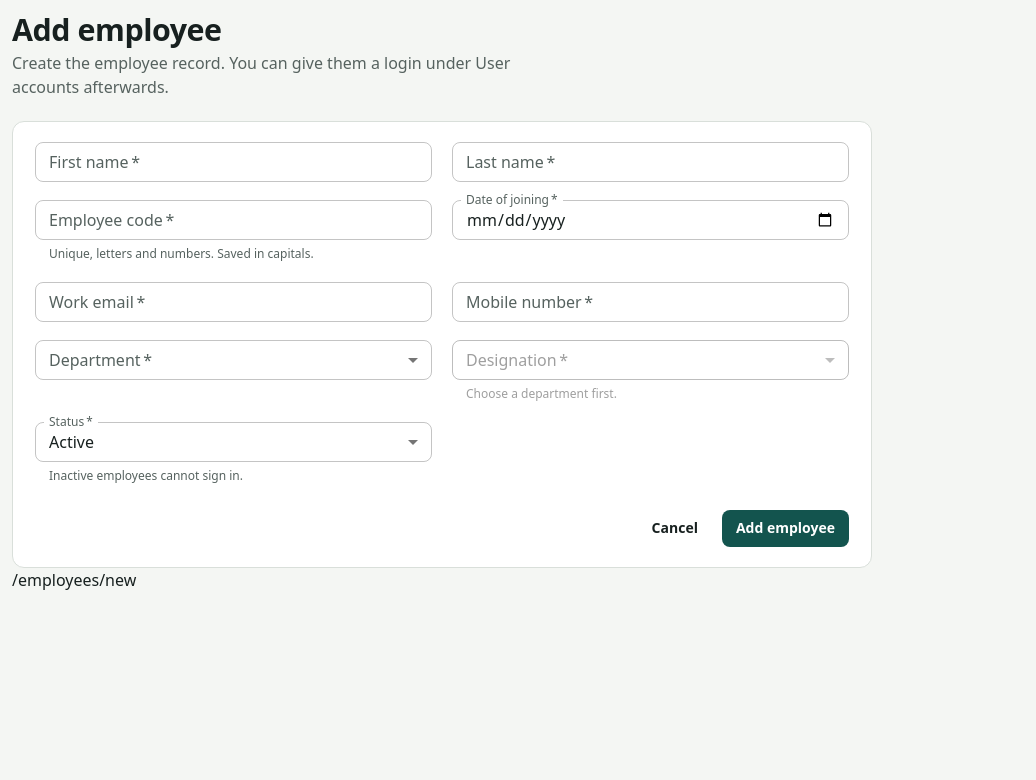
Scenario: EmployeeFormPage › validates in the browser before saving
The image size is (1036, 780).
Expected: the 1st dropdown named "department" is shown, [35,340,432,380]
Type "R4vi" into the field labelled "First name *" at x=234, y=162, box [35,142,432,182]
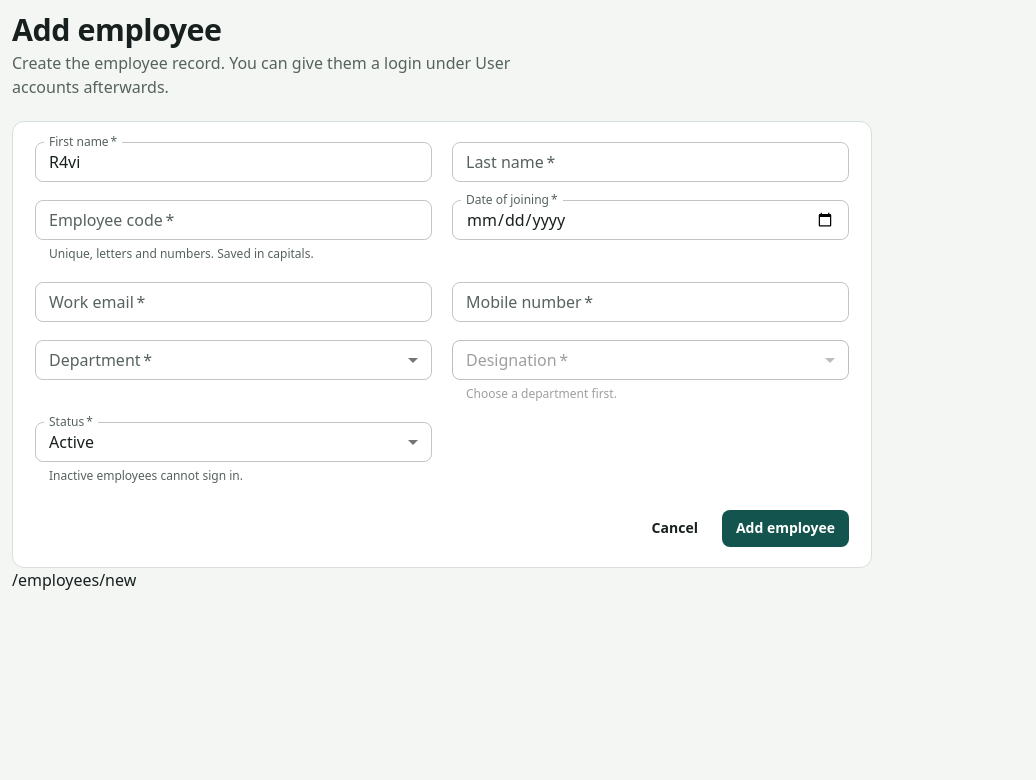
Type "12345" into the field labelled "Mobile number *" at x=650, y=302, box [452,282,849,322]
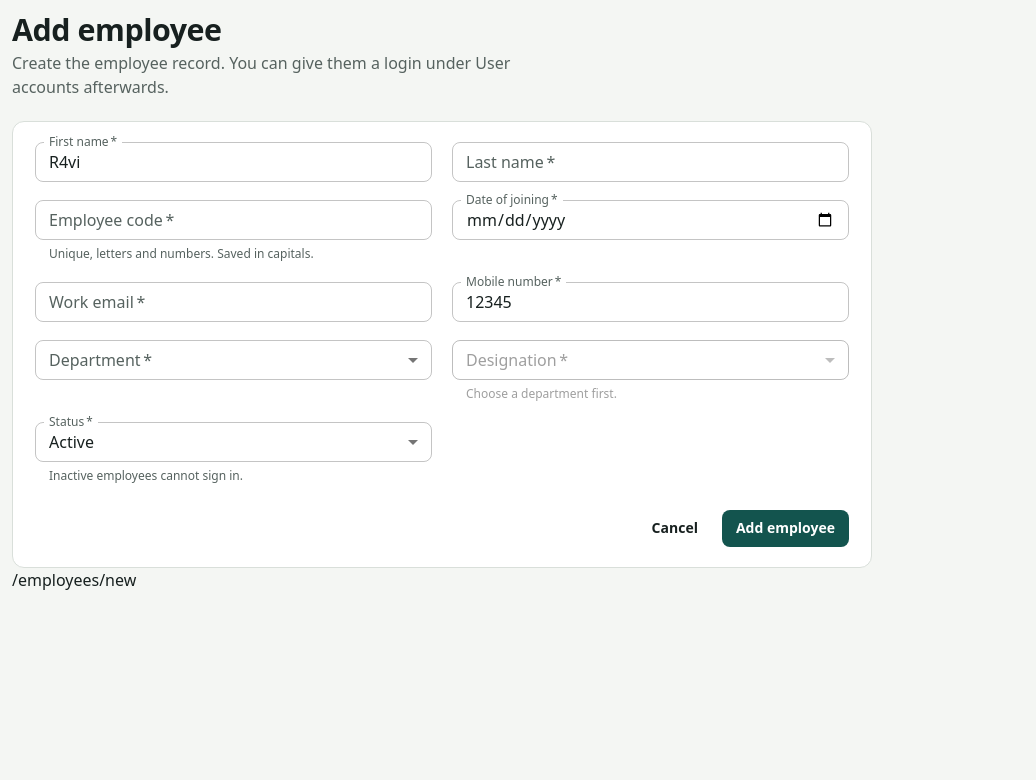
Click the button "Add employee" at x=785, y=528, box [722,510,849,547]
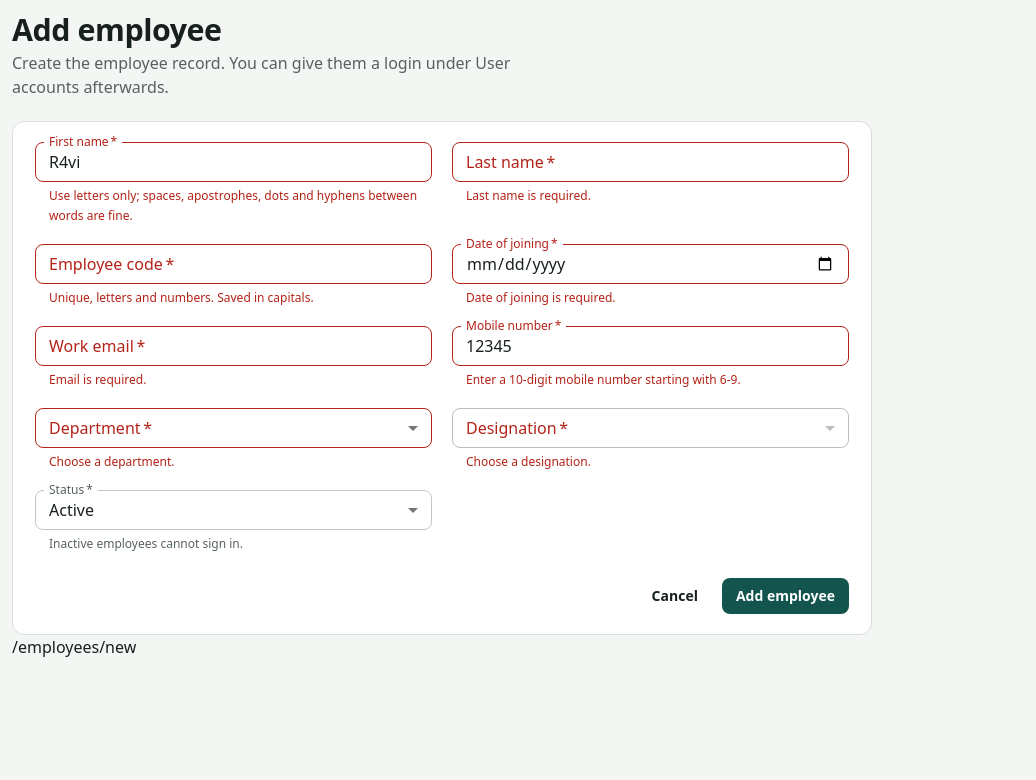
Expected: the text "Use letters only" is shown, [49,188,417,224]
Expected: the text "Enter a 10-digit mobile number starting with 6-9." is shown, [466,371,741,388]
Expected: the text "Choose a department." is shown, [49,453,174,470]
